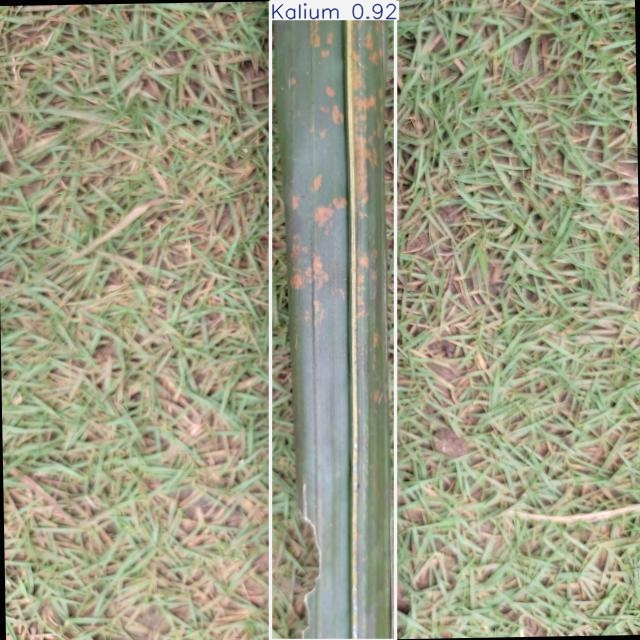Kalium: (270, 1, 395, 640)
